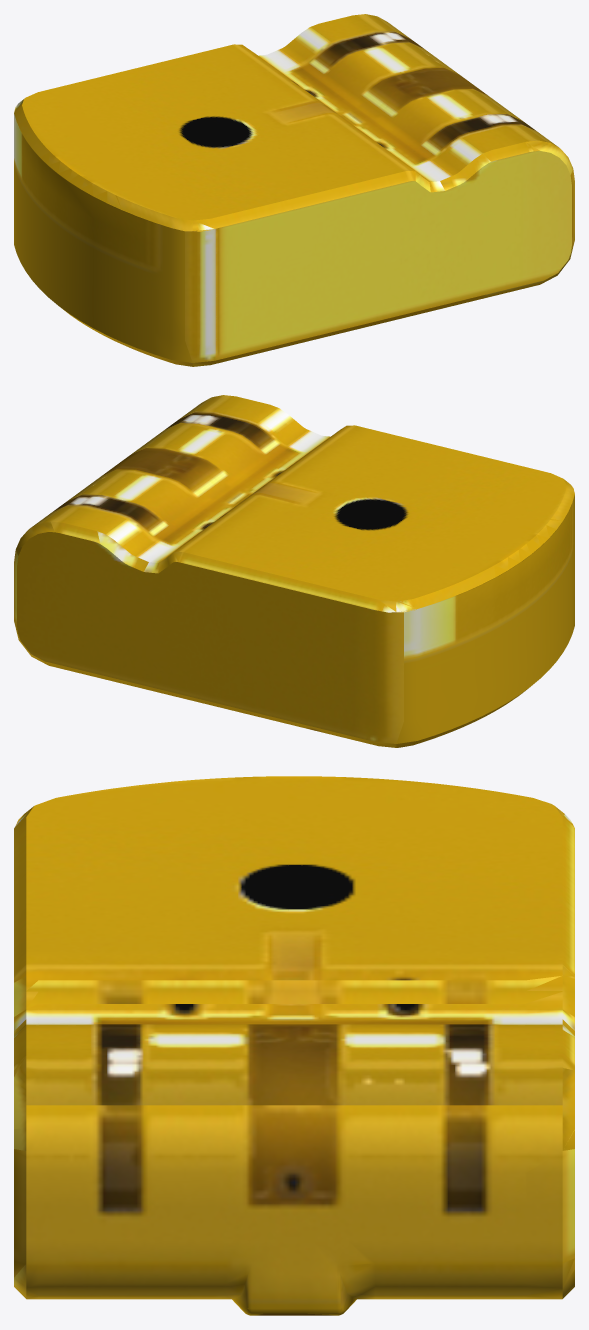
Rendered from head_pan.dae.
3 views of the same model, one above another, from view 1: azimuth 30°, elevation 25°; view 2: azimuth 150°, elevation 25°; view 3: azimuth 270°, elevation 25° (orthographic). The views are drawn at different scales.
Visible parts, largest first — view 1: simple_mesh_head; view 2: simple_mesh_head; view 3: simple_mesh_head.
Boxes of the visible parts, <box> form: simple_mesh_head: <box>14,14,574,366</box>; simple_mesh_head: <box>14,395,574,747</box>; simple_mesh_head: <box>14,776,574,1315</box>.
Size of the model in its own units: 122 by 90 by 40.2.
1 material, 1 textured.
